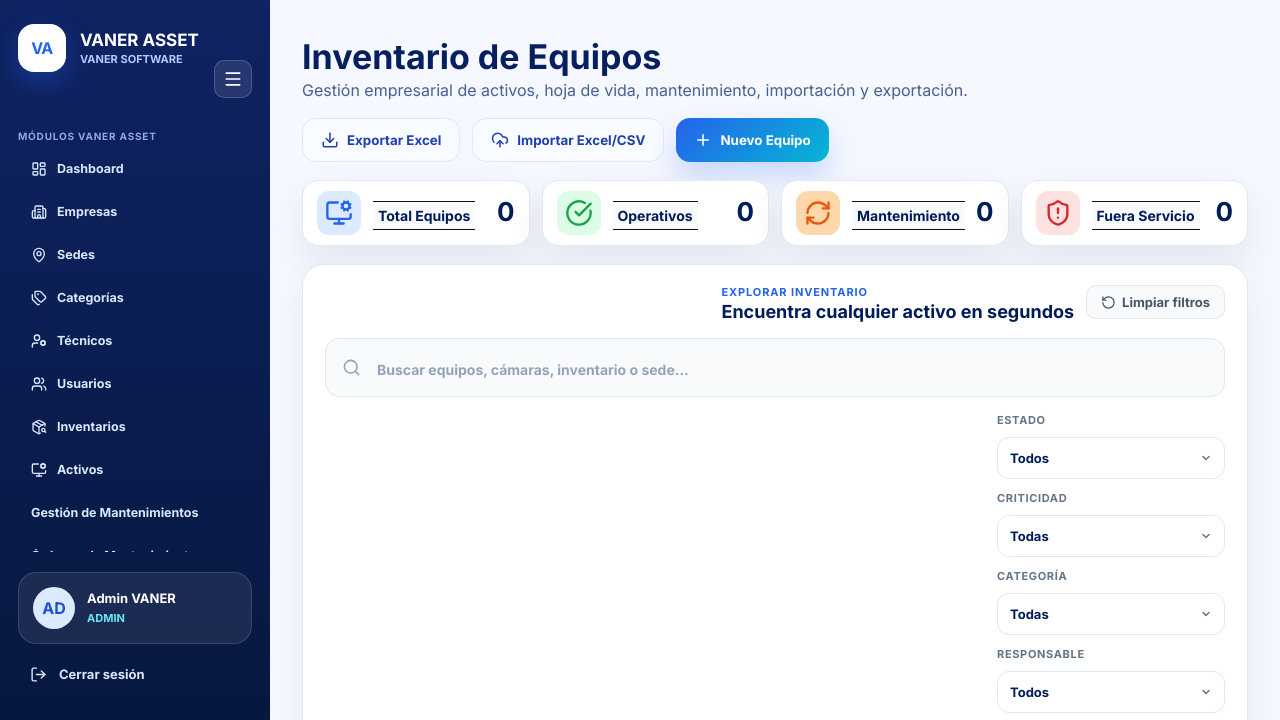
EquiposPage › avisa y bloquea el guardado cuando el inventario ya existe
Click the button "Nuevo Equipo" at (752, 140), box [676,118,829,162]
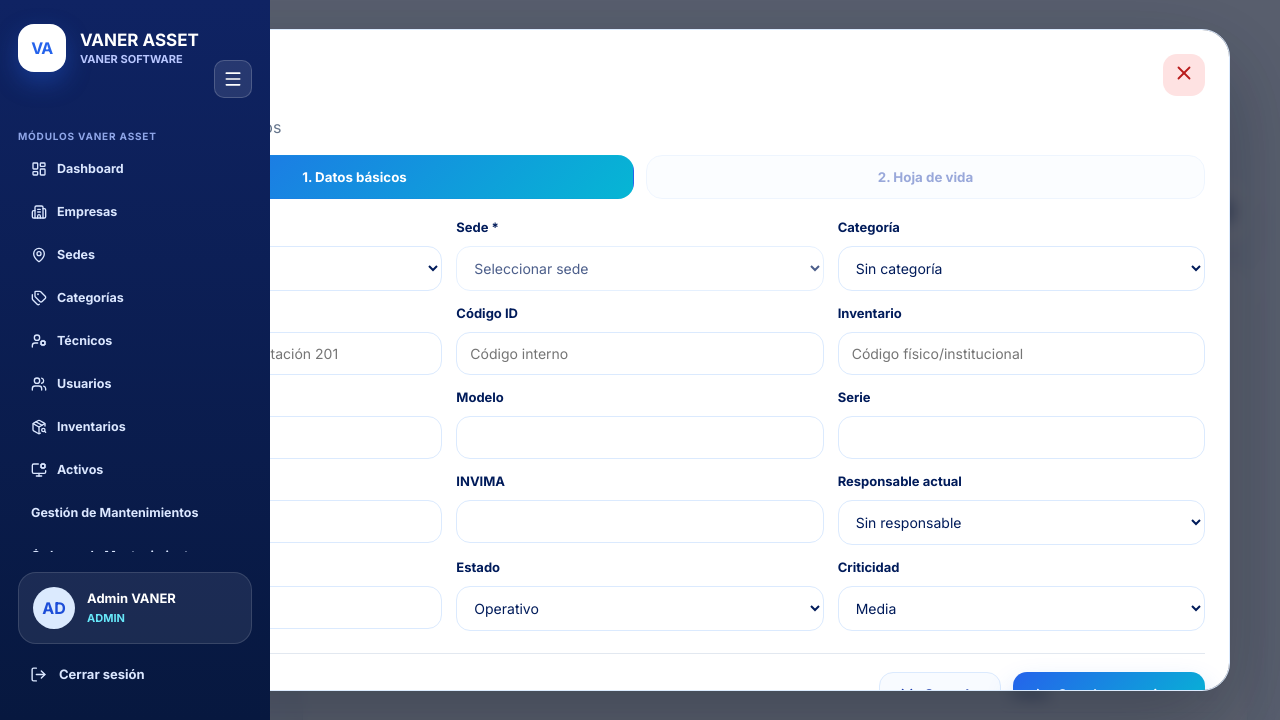
Type "  inv-001  " into the field labelled "Inventario" at (1021, 353), box [838,332,1205,375]
(page scrolled)
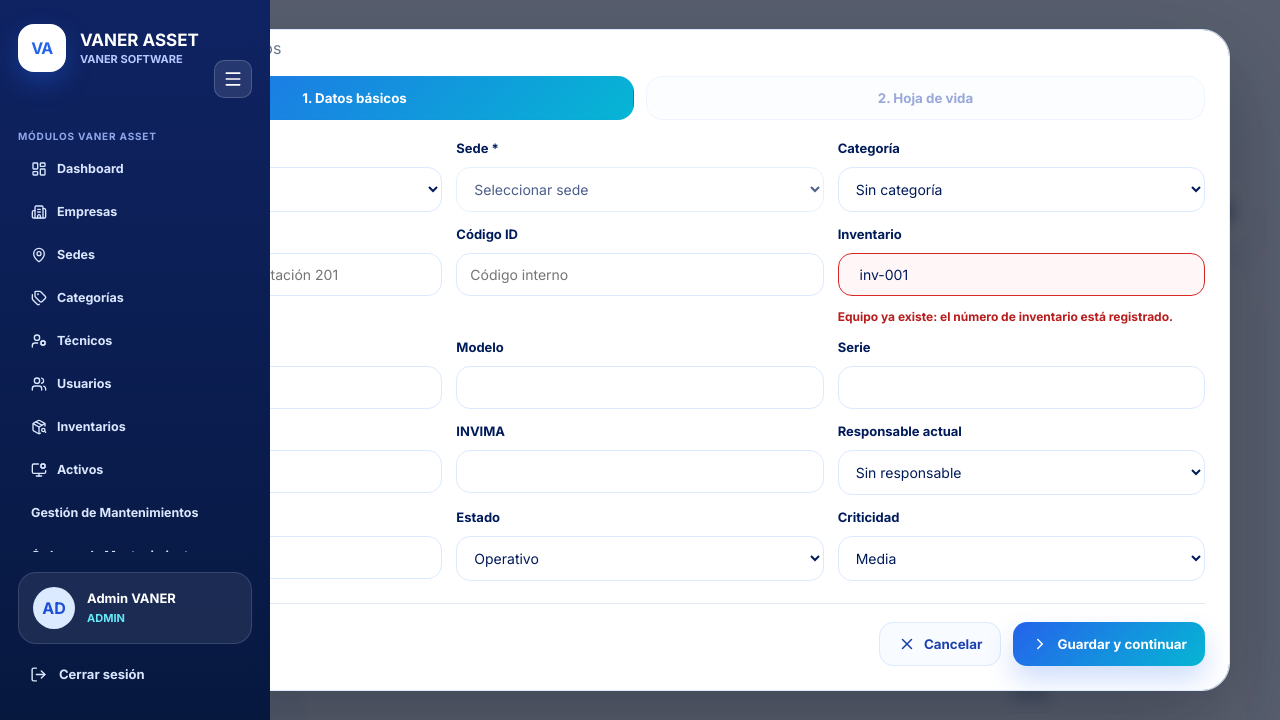
Now the message reads "Equipo ya existe: el número de inventario está registrado.", box [838,309,1173,324]
Now the button "Guardar y continuar" is disabled, box [1013,622,1205,666]
